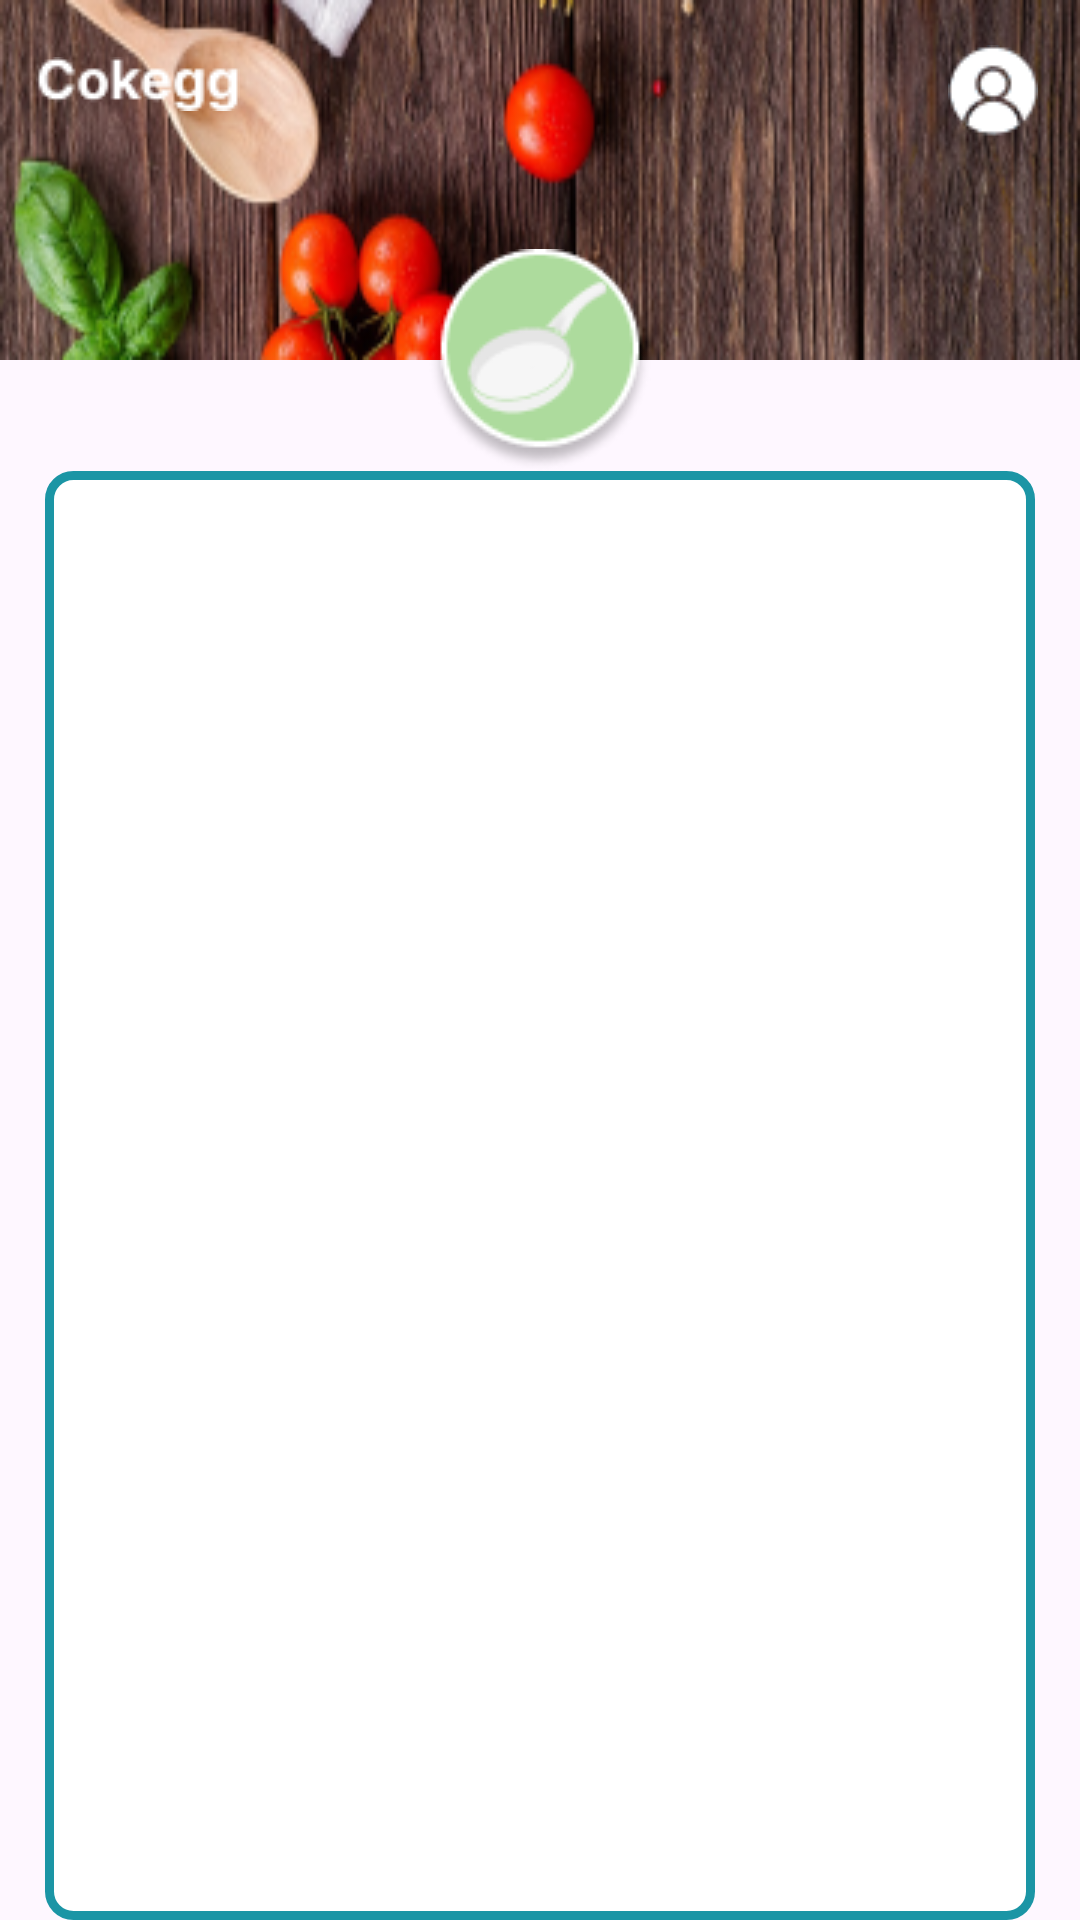

Where to tap for icons on this 1080w x 1920h app screen, as point (x, y):
account: point (993, 91)
